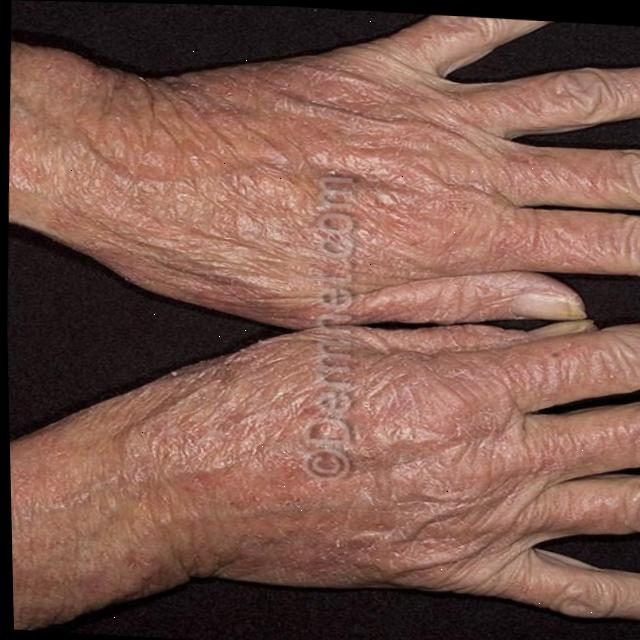Eczema: (48, 44, 475, 287), (152, 329, 522, 599)
